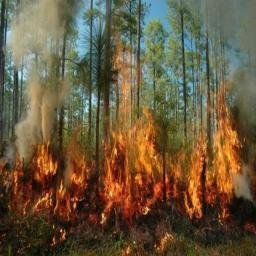Medium fire: (0, 24, 255, 253)
